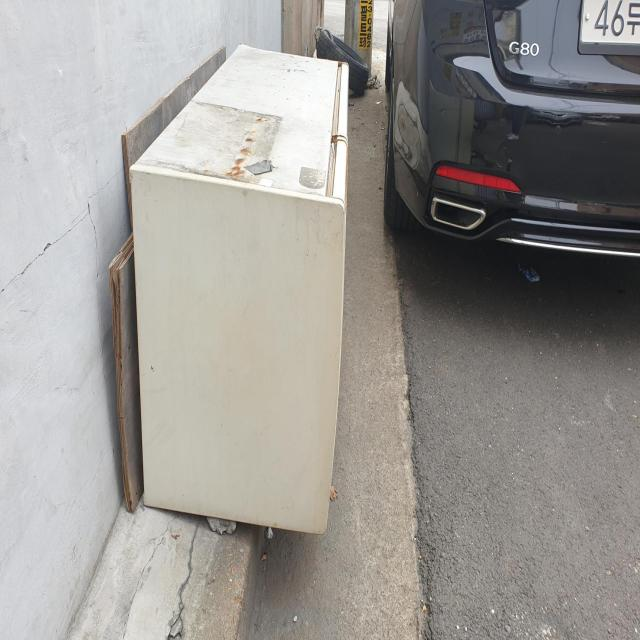refrigerator: (128, 44, 351, 540)
